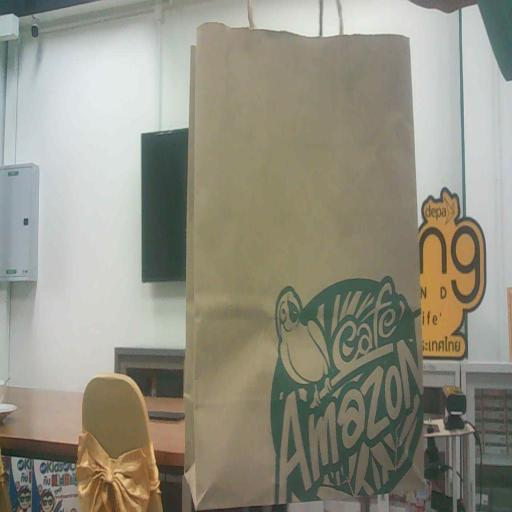bag: (180, 7, 432, 512)
